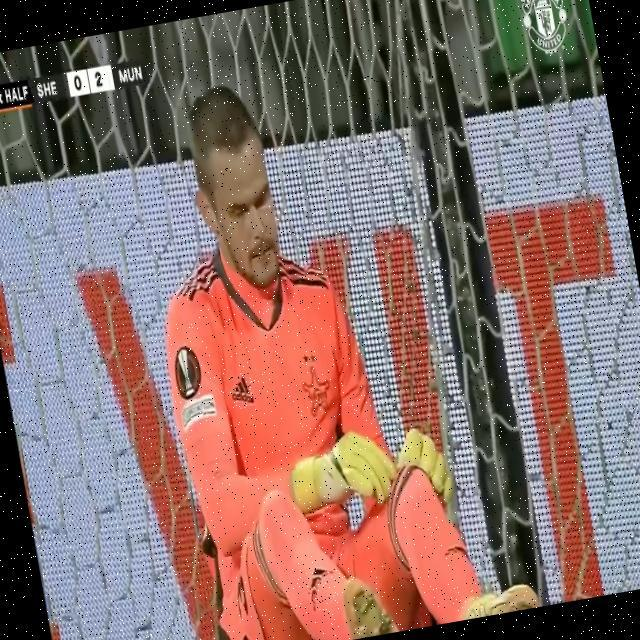Adidas: (302, 560, 341, 612), (227, 370, 257, 410)
